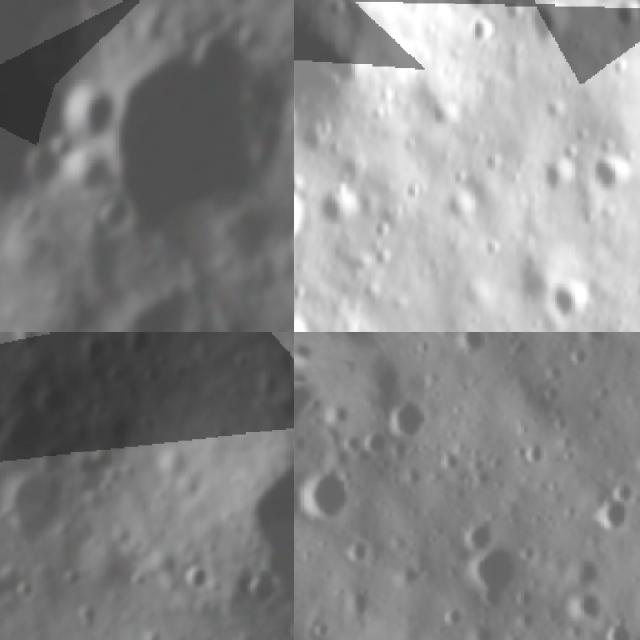crater: (450, 532, 539, 622), (294, 452, 372, 546), (0, 378, 69, 484), (376, 382, 452, 462), (2, 469, 71, 554), (553, 574, 630, 640), (579, 487, 640, 552), (588, 144, 640, 208), (545, 272, 601, 330), (524, 0, 581, 54), (52, 82, 110, 134), (294, 385, 333, 449), (530, 152, 580, 200), (317, 184, 365, 233), (239, 568, 284, 612), (174, 557, 219, 597), (426, 89, 466, 132), (76, 332, 113, 377), (21, 148, 58, 186), (463, 8, 499, 47), (97, 194, 125, 243), (607, 0, 640, 35), (125, 332, 165, 356), (294, 185, 308, 251), (450, 0, 513, 13)
